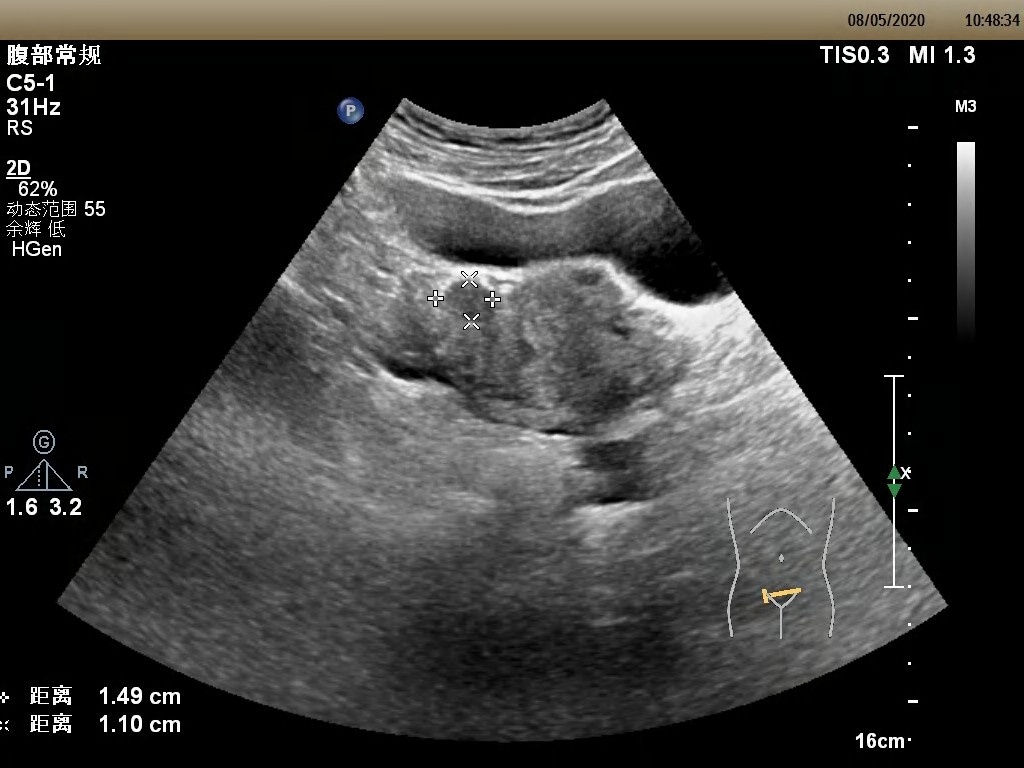肌瘤: (448, 283, 495, 322)
